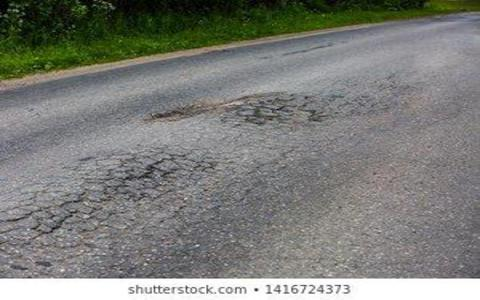patchy roads: (21, 151, 221, 252), (149, 62, 359, 154)
